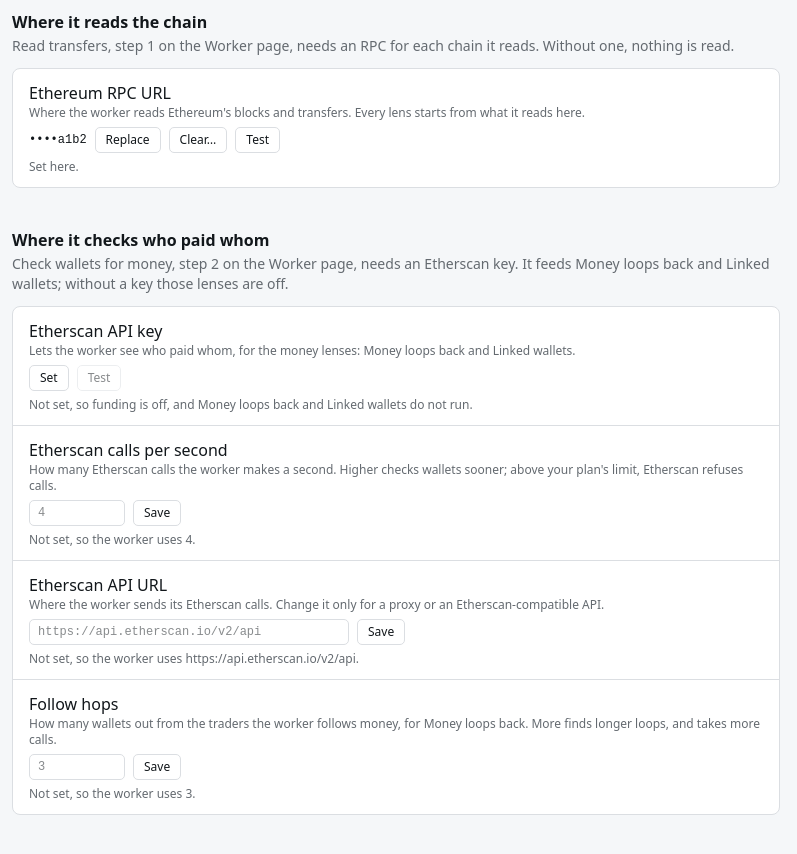
Settings, Test › gives up after 20 s when a poll hangs
Click the button "Test" in the row of "••••a1b2": (258, 140) [235, 127, 280, 153]
Wait 20500 ms
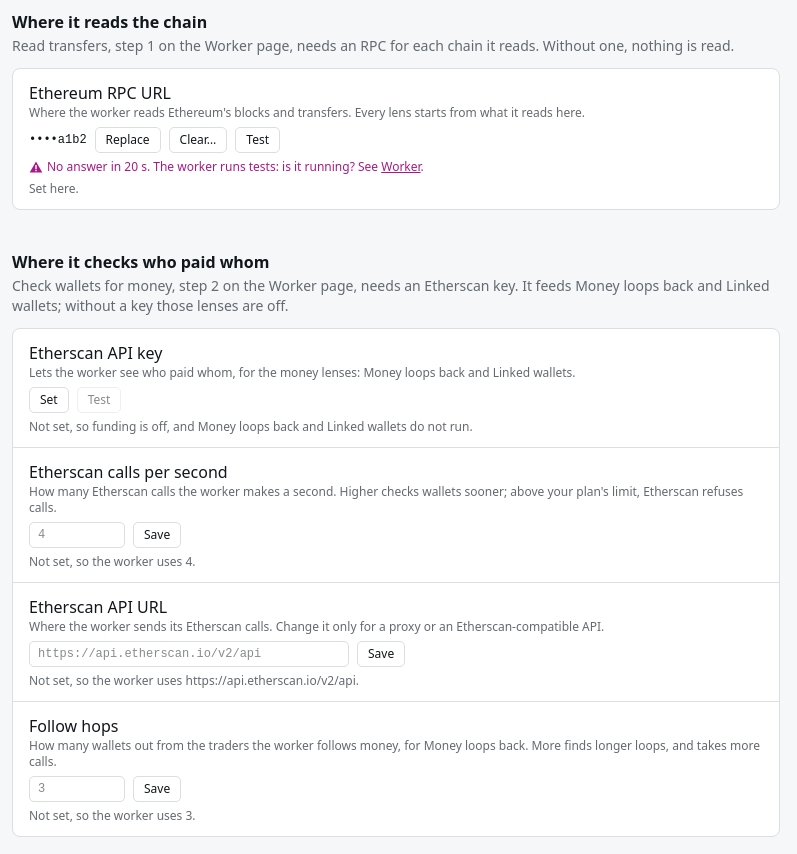
Expected: the message "No answer in 20 s. The worker runs tests: is it running? See Worker ." is shown, [29, 158, 424, 175]
